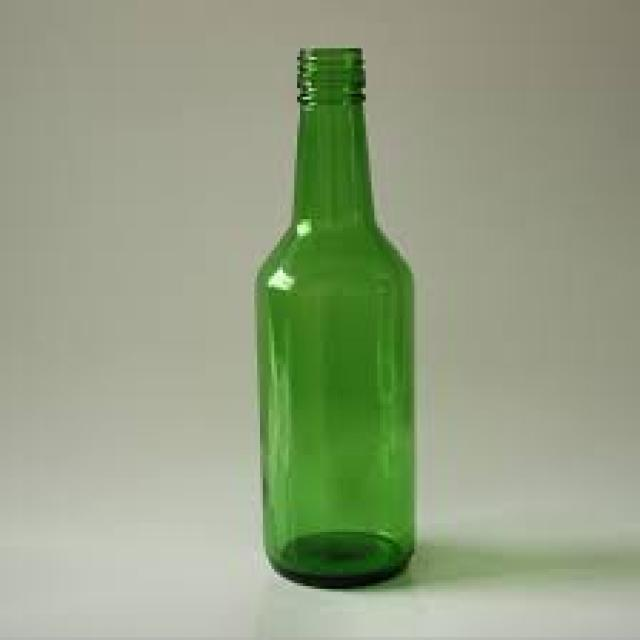Glass-Non-Biodegradable but Recyclable-: (252, 49, 419, 586)
